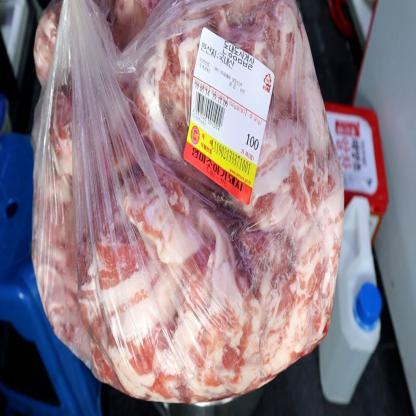pork: (42, 5, 331, 398)
